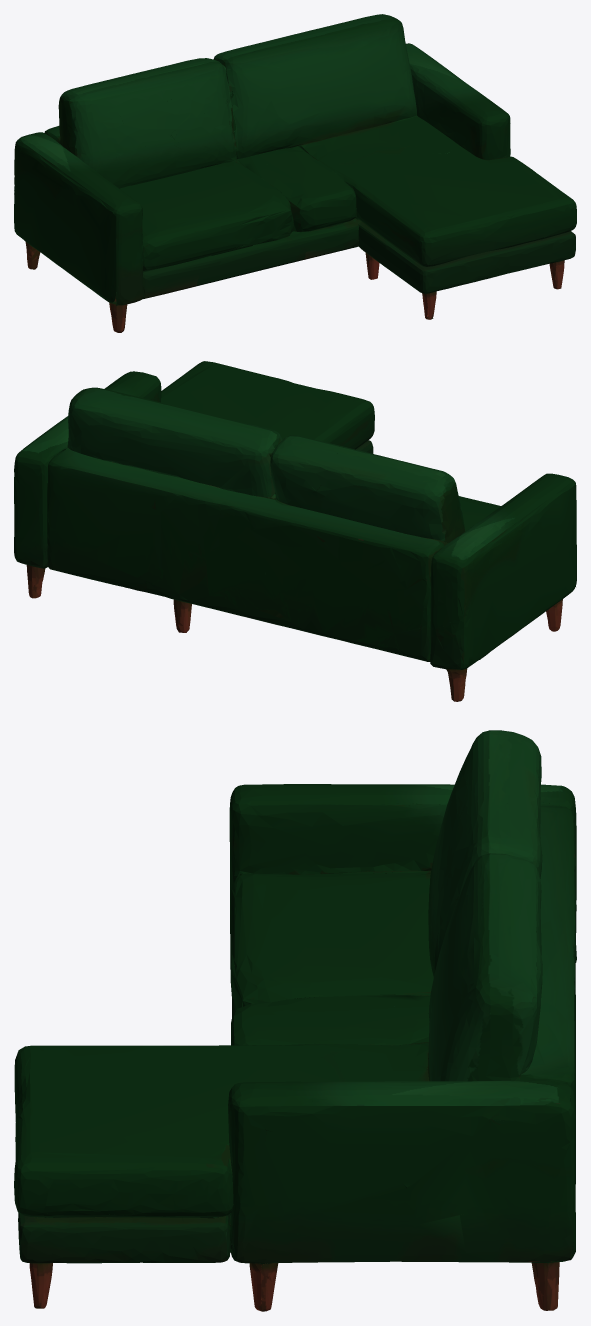
The model's file is sofa.fbx.
The picture shows the model from 3 angles, top to bottom: view 1: azimuth 30°, elevation 25°; view 2: azimuth 150°, elevation 25°; view 3: azimuth 270°, elevation 25°; orthographic projection. The views are drawn at different scales.
Visible parts, largest first — view 1: geometry_0; view 2: geometry_0; view 3: geometry_0.
Part boxes in pixels (box(x1,y1,x2,y2)): geometry_0: box(14, 14, 576, 332); geometry_0: box(14, 361, 576, 701); geometry_0: box(14, 730, 576, 1311).
Bounding box in the file's own units: 200 × 86.63 × 146.
